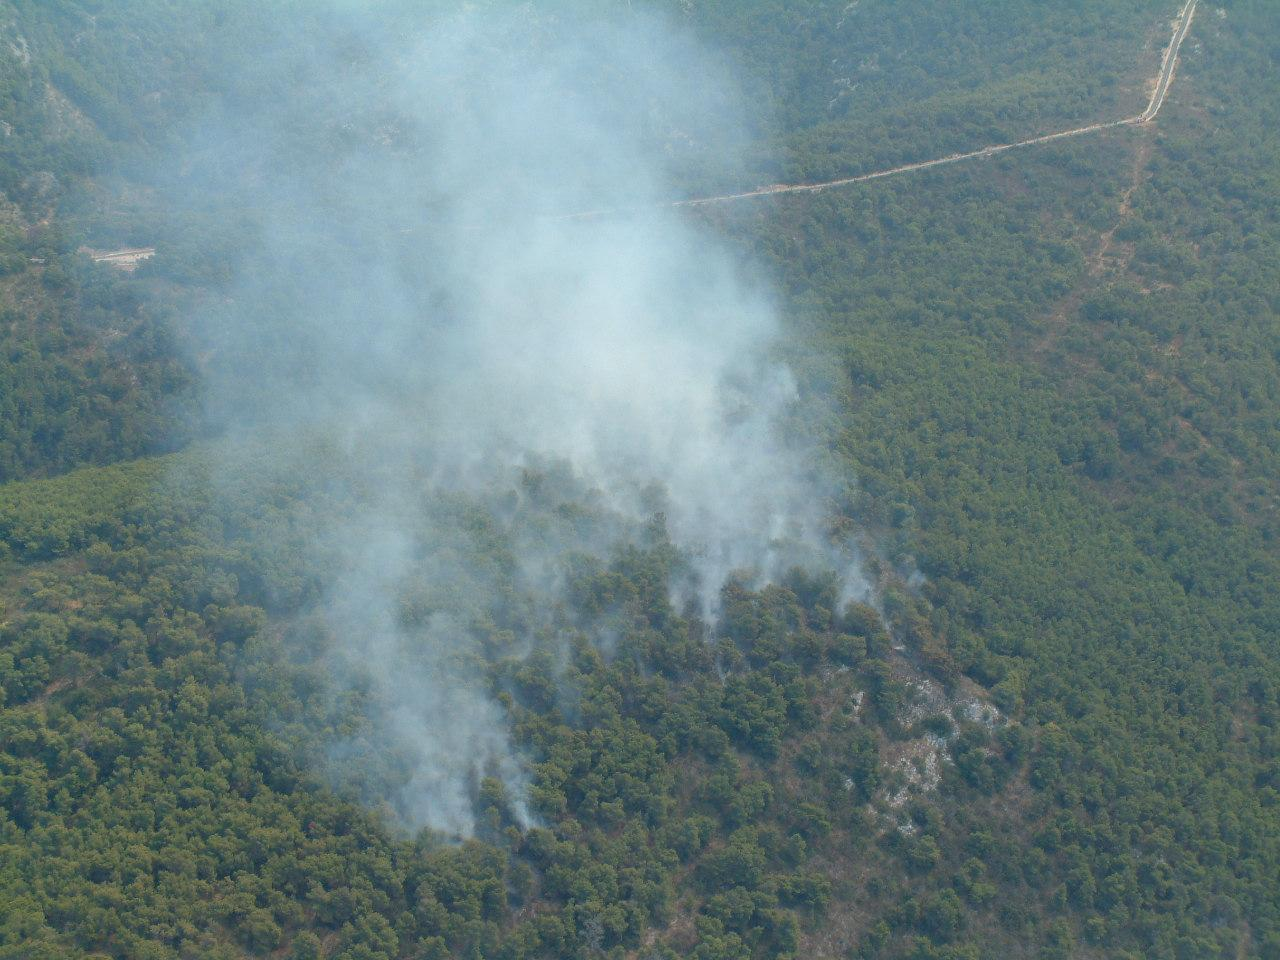Smoke: (85, 0, 546, 833), (545, 1, 893, 623)
